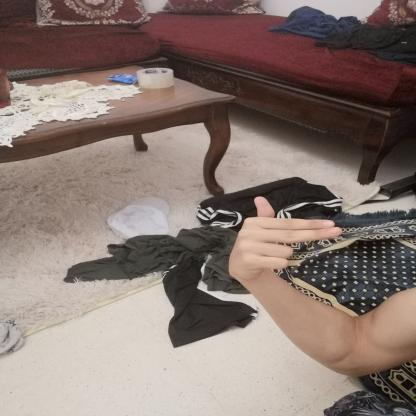GHAYN: (220, 188, 349, 287)
